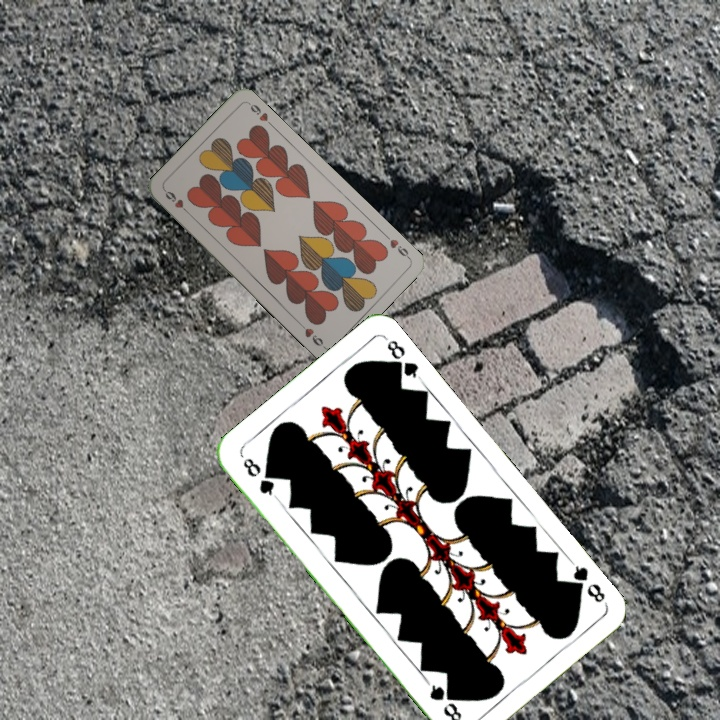G8: (565, 557, 609, 606), (238, 453, 280, 501)
H9: (161, 185, 193, 218), (380, 230, 413, 261)
